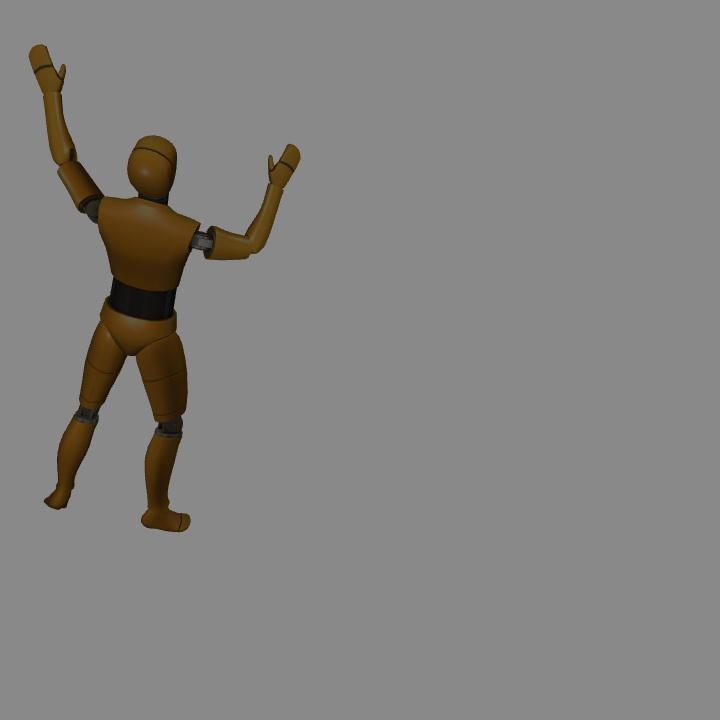victim: (30, 40, 302, 532)
